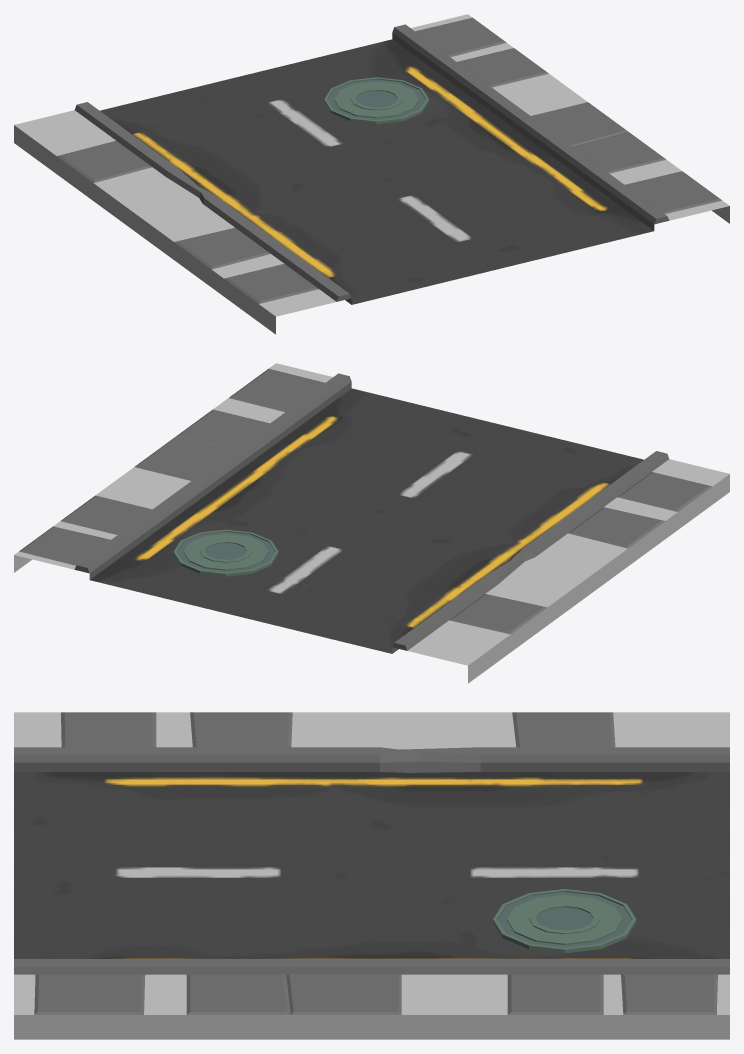
File: Road_S_02.fbx
The picture shows the model from 3 angles, top to bottom: view 1: azimuth 30°, elevation 25°; view 2: azimuth 150°, elevation 25°; view 3: azimuth 270°, elevation 25°; orthographic projection. The views are drawn at different scales.
Parts seen in each view (by area): view 1: Road_S_02; view 2: Road_S_02; view 3: Road_S_02.
Part boxes in pixels (x1=…): Road_S_02: x1=14, y1=14, x2=729, y2=334; Road_S_02: x1=14, y1=363, x2=729, y2=683; Road_S_02: x1=14, y1=712, x2=729, y2=1039.
Bounding box in the file's own units: 1200 × 58.25 × 1200.
